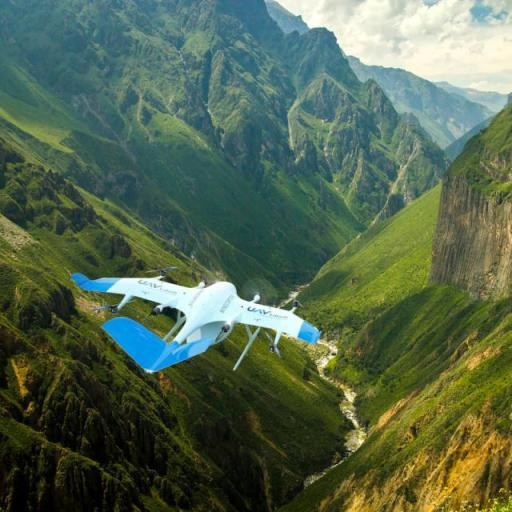uav: (66, 264, 332, 382)
